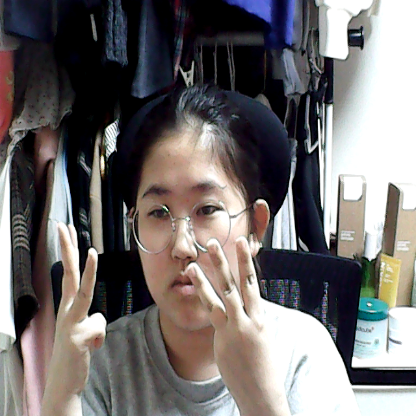Finger_3: (177, 229, 287, 398), (25, 221, 116, 378)
